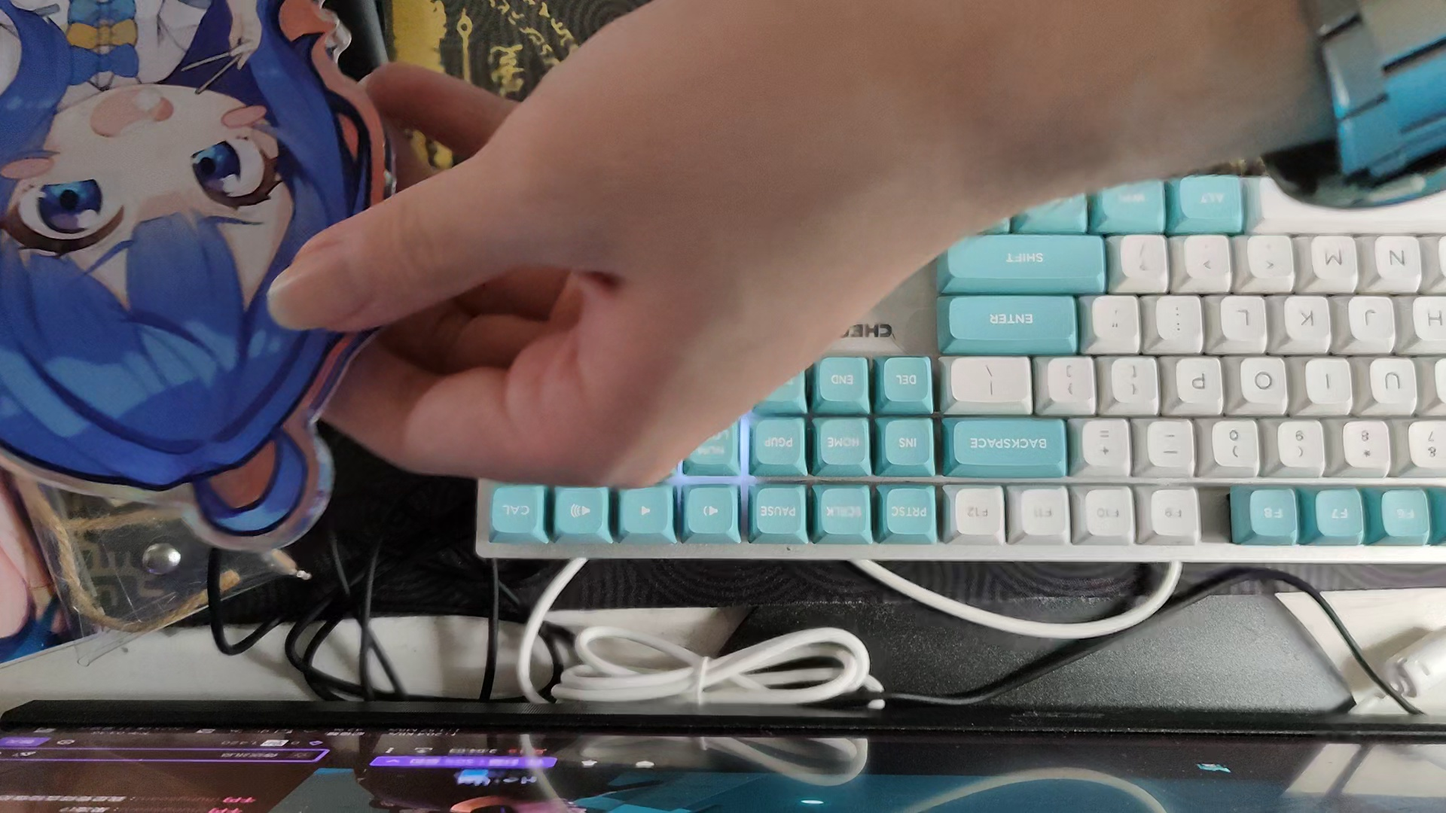Yanami-anna: (0, 0, 406, 548)
